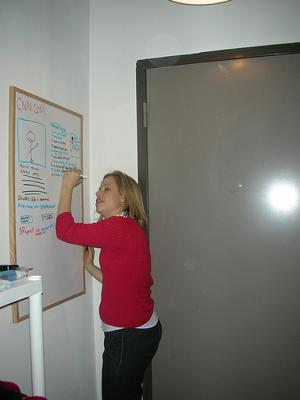person: (56, 167, 162, 400)
